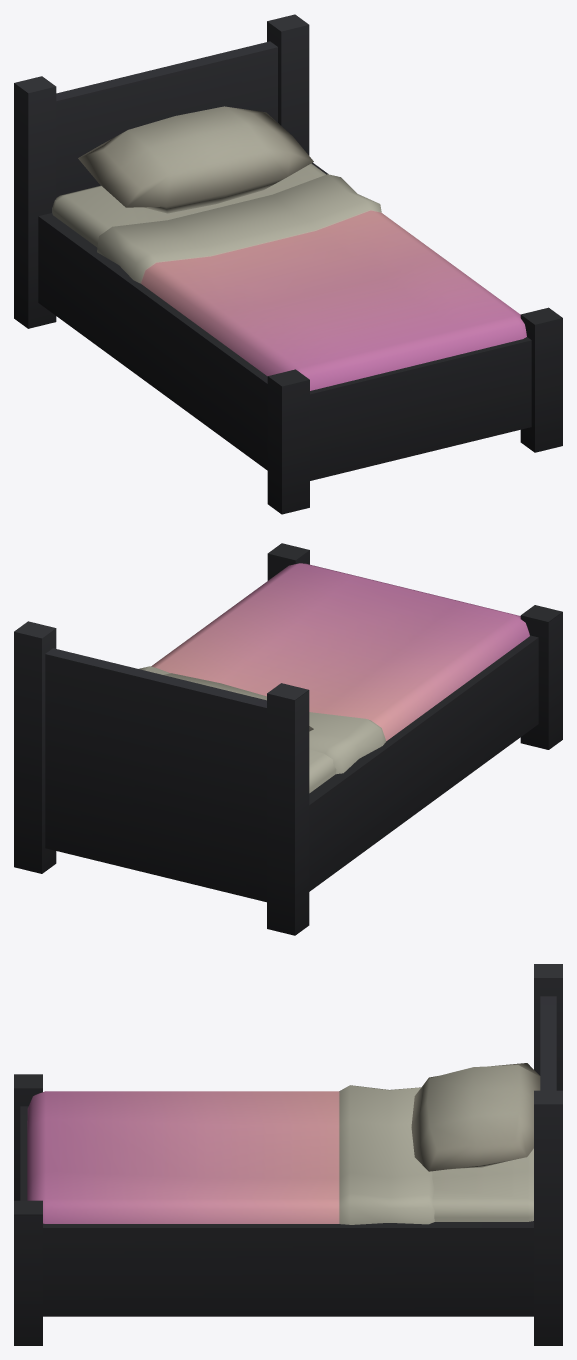
Rendered from twinBedwithsheet.fbx.
3 views of the same model, one above another, from view 1: azimuth 30°, elevation 25°; view 2: azimuth 150°, elevation 25°; view 3: azimuth 270°, elevation 25° (orthographic). The views are drawn at different scales.
Parts seen in each view (by area): view 1: TwinBed with sheet; view 2: TwinBed with sheet; view 3: TwinBed with sheet.
Part boxes in pixels (x1=…): TwinBed with sheet: x1=14, y1=14, x2=562, y2=514; TwinBed with sheet: x1=14, y1=543, x2=562, y2=935; TwinBed with sheet: x1=14, y1=964, x2=562, y2=1345.
Size of the model in its own units: 1.82 by 1.46 by 3.
Materials: 1 (1 with a texture image).
